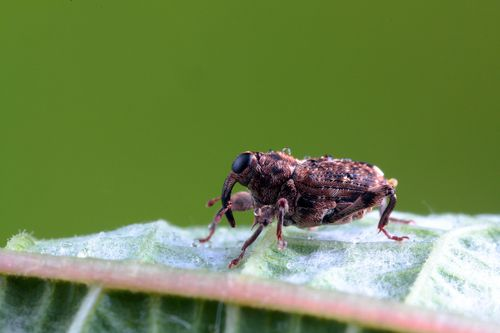Curculionidae: (197, 146, 416, 269)
